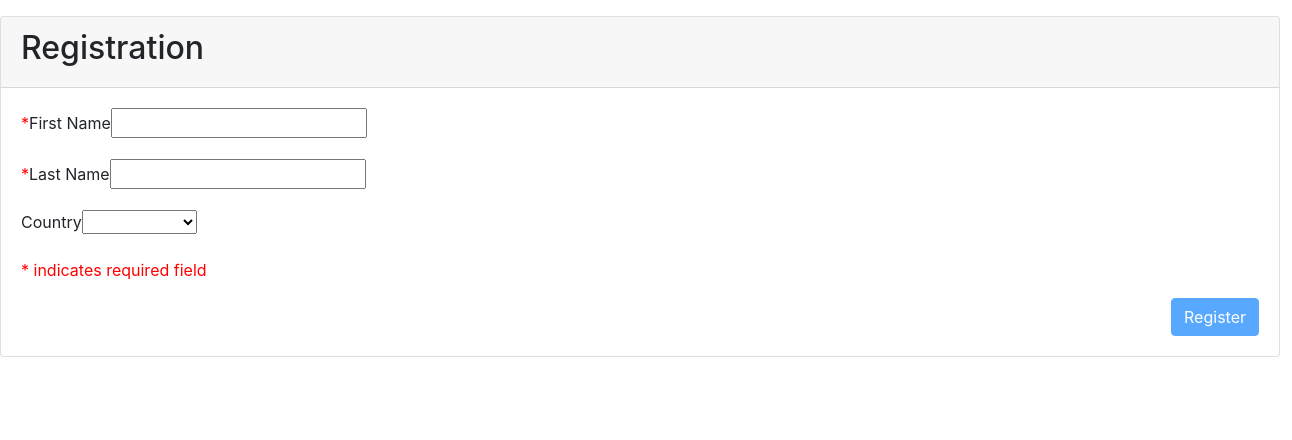
The RegistrationForm › register a person
Type "Mike" into the field labelled "First Name" at (239, 123), box [111,108,367,138]
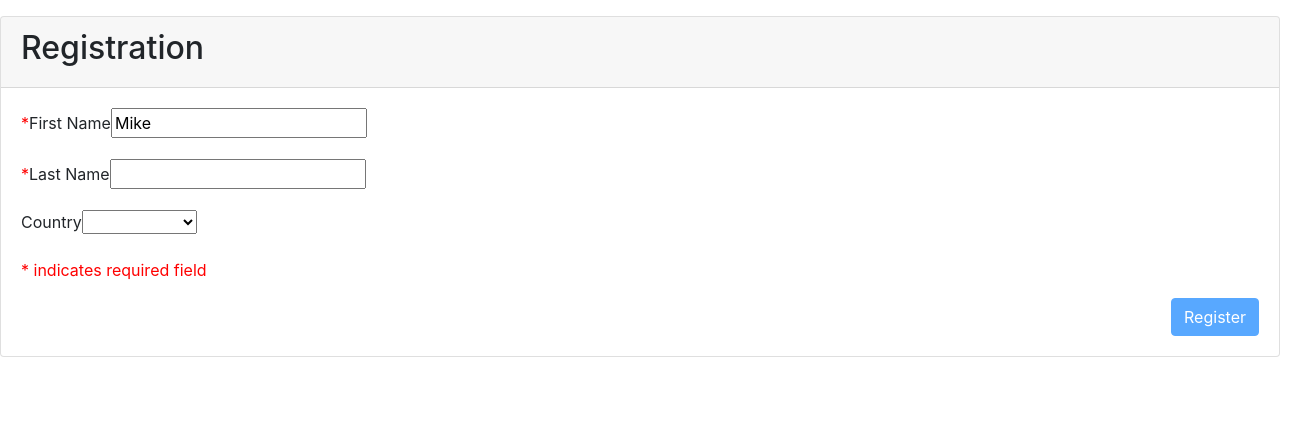
Type "Harris" into the field labelled "Last Name" at (238, 174), box [110,159,366,189]
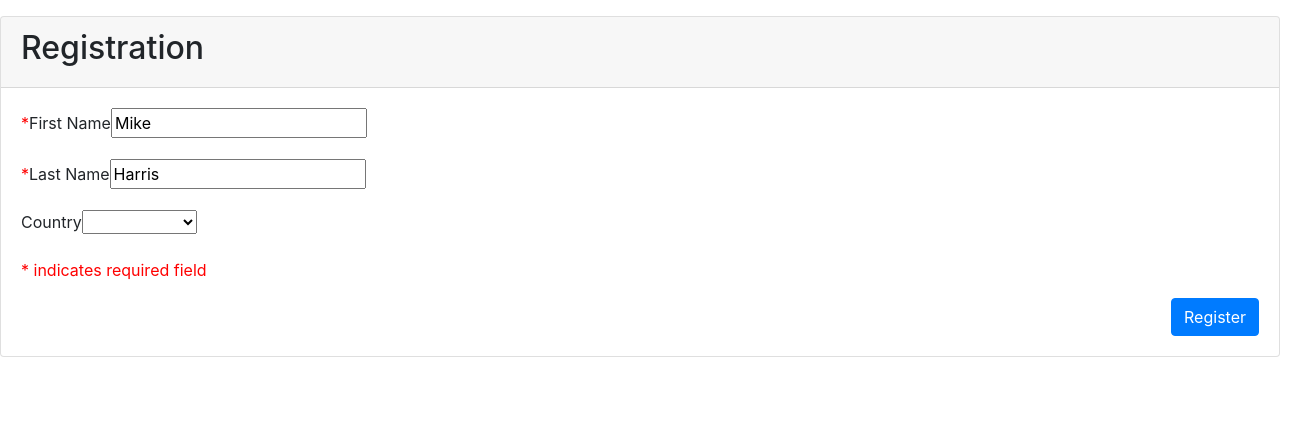
Click the button "Register" at (1215, 317), box [1171,298,1259,336]
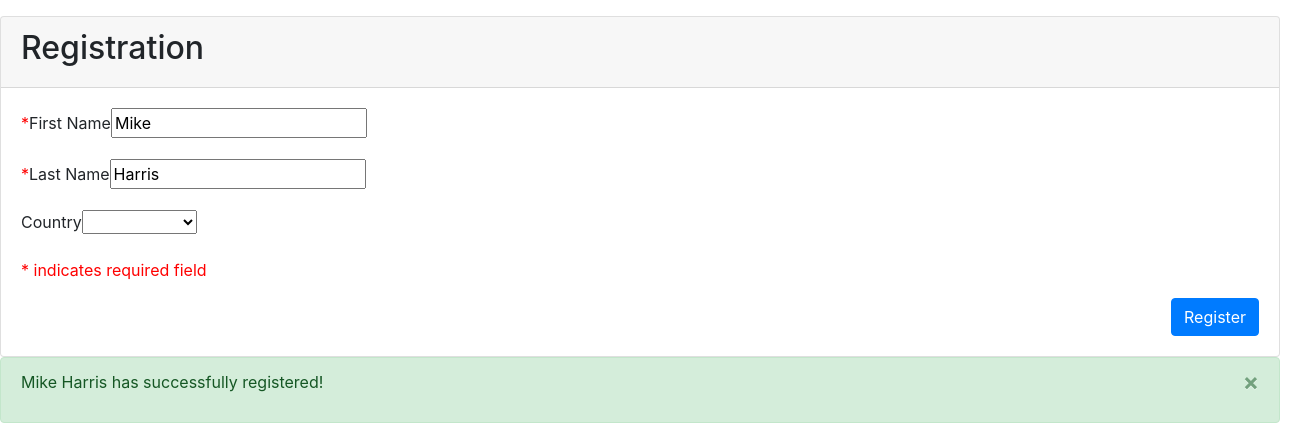
Expected: the text "Mike Harris has successfully registered!" is shown, [21,372,323,392]
Expected: the message "× Mike Harris has successfully registered!" is shown, [0,357,1280,423]
